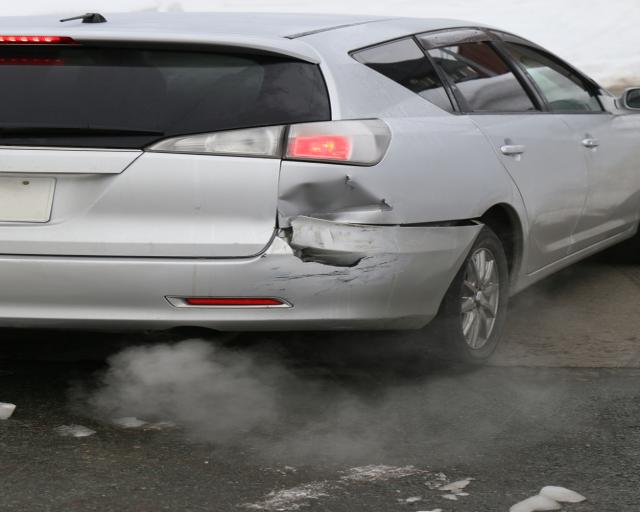crack: (287, 236, 367, 271)
dent: (278, 179, 389, 227)
scratch: (255, 227, 409, 299)
